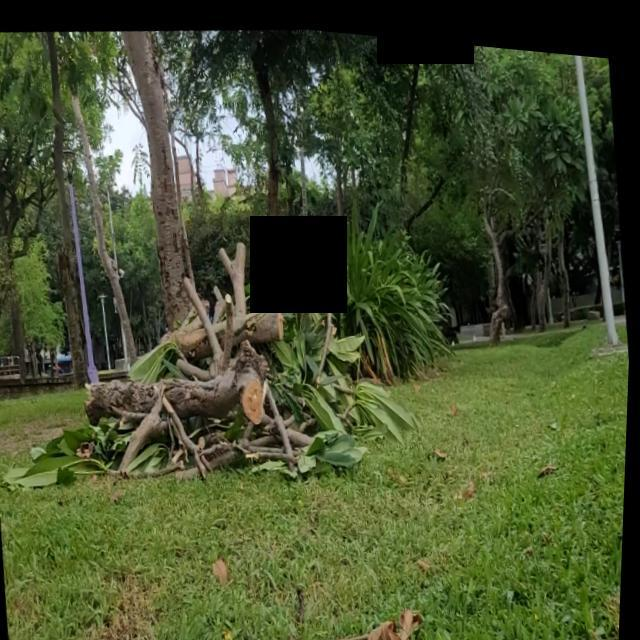Tree: (33, 29, 106, 385), (118, 24, 207, 315), (72, 97, 154, 369), (1, 35, 17, 416), (482, 211, 516, 336)
